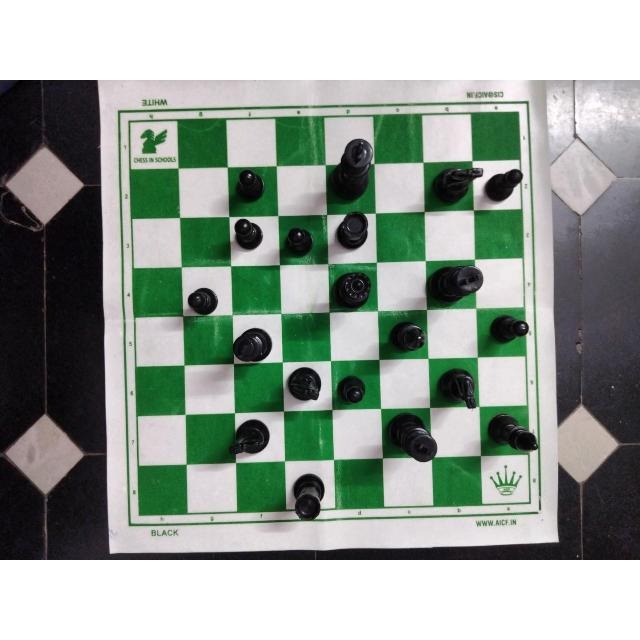black-bishop: (486, 412, 541, 455), (388, 313, 430, 359)
black-king: (325, 135, 376, 204), (384, 414, 440, 464), (422, 261, 485, 305), (230, 326, 273, 370)
black-knight: (427, 162, 485, 206), (433, 367, 481, 412), (229, 417, 273, 459), (286, 364, 325, 406)
black-pawn: (484, 309, 532, 346), (182, 280, 224, 318), (332, 372, 373, 410), (231, 169, 269, 207), (486, 166, 524, 203), (281, 225, 319, 261), (231, 215, 264, 251)
black-queen: (329, 270, 377, 311)
black-rook: (286, 471, 334, 525), (333, 207, 372, 254)
